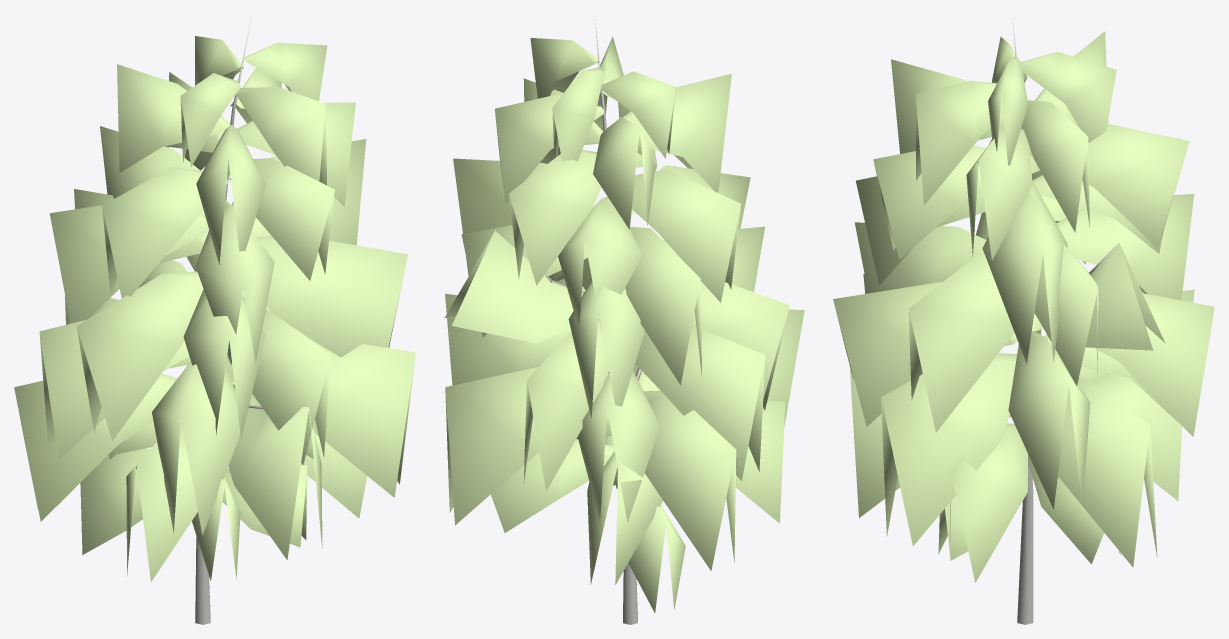
The model's file is birch_04.fbx.
The picture shows the model from 3 angles, left to right: view 1: azimuth 30°, elevation 25°; view 2: azimuth 150°, elevation 25°; view 3: azimuth 270°, elevation 25°; orthographic projection. The views are drawn at different scales.
Visible parts, largest first — view 1: Birch_04; view 2: Birch_04; view 3: Birch_04.
Boxes of the visible parts, x1,y1,x2,y2 form: Birch_04: (14,17,415,624); Birch_04: (444,16,804,624); Birch_04: (833,15,1214,624).
Size of the model in its own units: 302 by 539 by 297.
